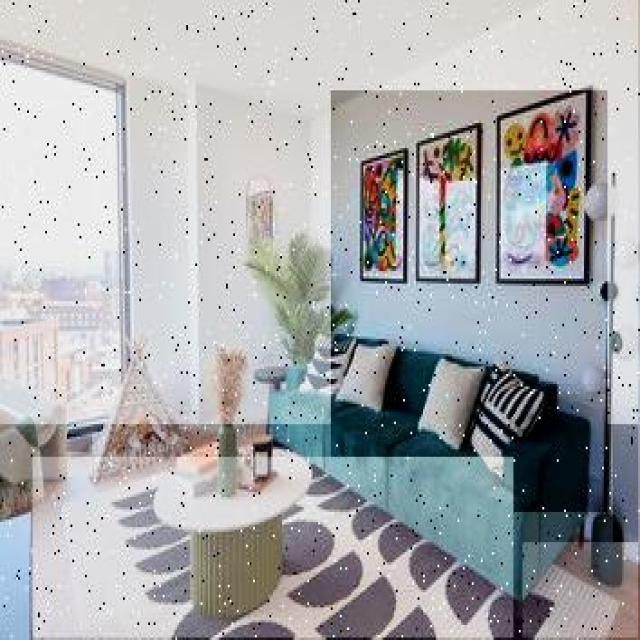Wall: (1, 0, 640, 424), (332, 91, 607, 512), (33, 457, 513, 637), (523, 542, 640, 637), (614, 354, 640, 557), (617, 265, 638, 329), (68, 434, 92, 452)
